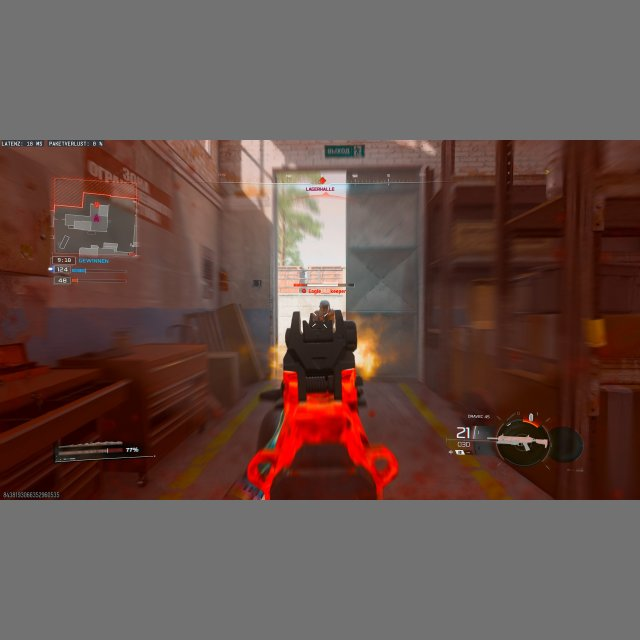head: (319, 300, 330, 313)
player: (309, 300, 333, 328)
